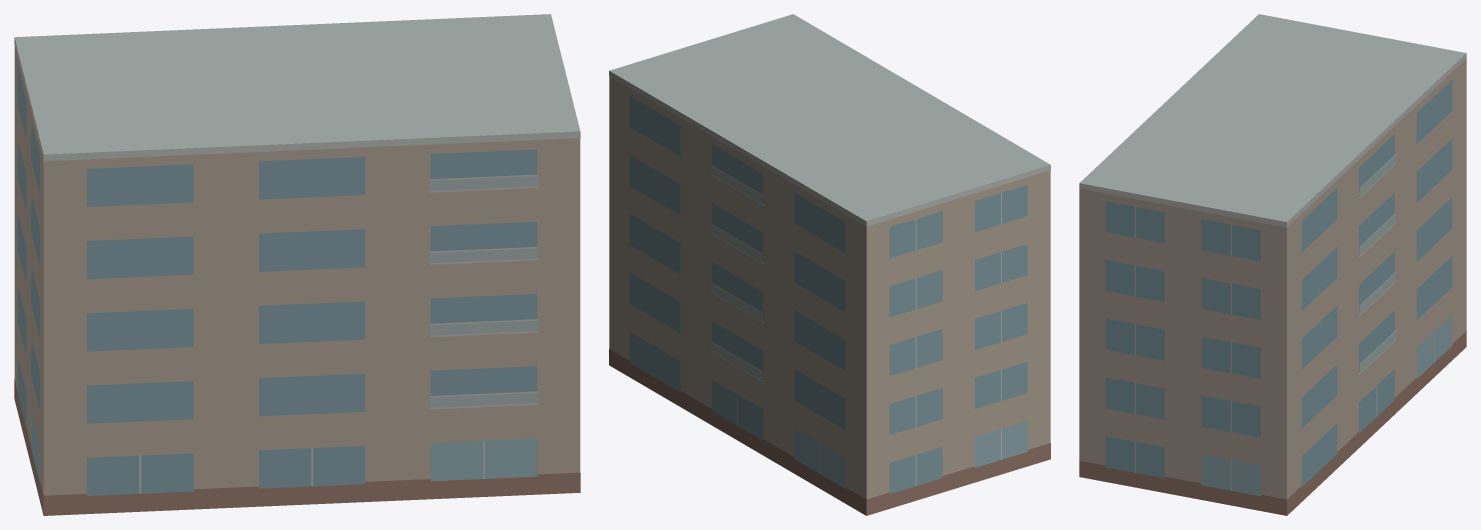
File: survey-upis-32680257.glb
3 views of the same model, side by side, from view 1: azimuth 30°, elevation 25°; view 2: azimuth 150°, elevation 25°; view 3: azimuth 270°, elevation 25° (orthographic). The views are drawn at different scales.
Visible parts, largest first — view 1: survey-upis-32680257.tmp; view 2: survey-upis-32680257.tmp; view 3: survey-upis-32680257.tmp.
Part boxes in pixels (x1,y1,x2,y2): survey-upis-32680257.tmp: (14,14,580,515); survey-upis-32680257.tmp: (609,14,1050,515); survey-upis-32680257.tmp: (1079,14,1466,515).
Size of the model in its own units: 20.22 by 13.3 by 15.9.
